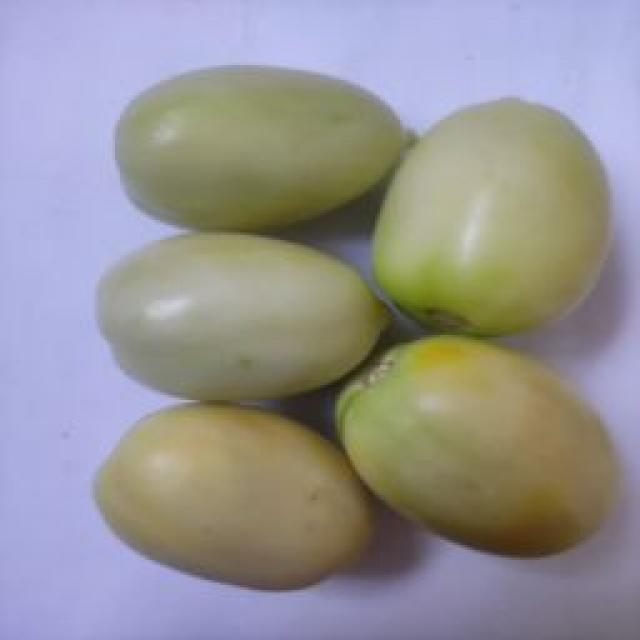unripe tomato: (338, 337, 620, 560), (373, 99, 612, 334), (92, 404, 374, 590), (110, 65, 408, 231), (96, 235, 376, 402)
